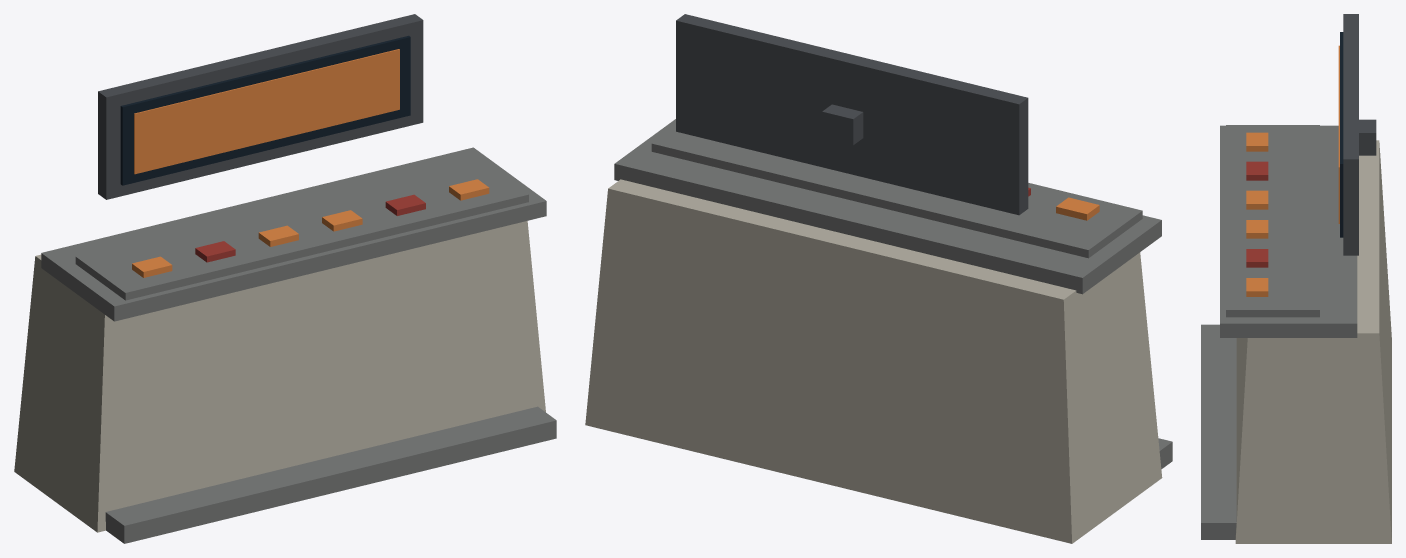
The model's file is rebel_console.glb.
3 views of the same model, side by side, from view 1: azimuth 30°, elevation 25°; view 2: azimuth 150°, elevation 25°; view 3: azimuth 270°, elevation 25° (orthographic). The views are drawn at different scales.
Parts seen in each view (by area): view 1: rebel_console; view 2: rebel_console; view 3: rebel_console.
Part boxes in pixels (x1,y1,x2,y2): rebel_console: (14,14,556,543); rebel_console: (585,14,1172,543); rebel_console: (1201,14,1391,543).
Size of the model in its own units: 1.56 by 1.25 by 0.61.
